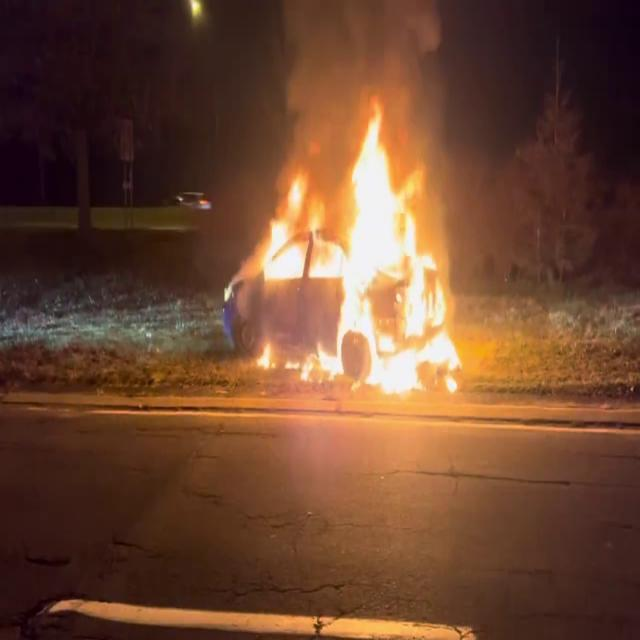Fire: (250, 98, 470, 400)
Smoke: (268, 0, 456, 184)
